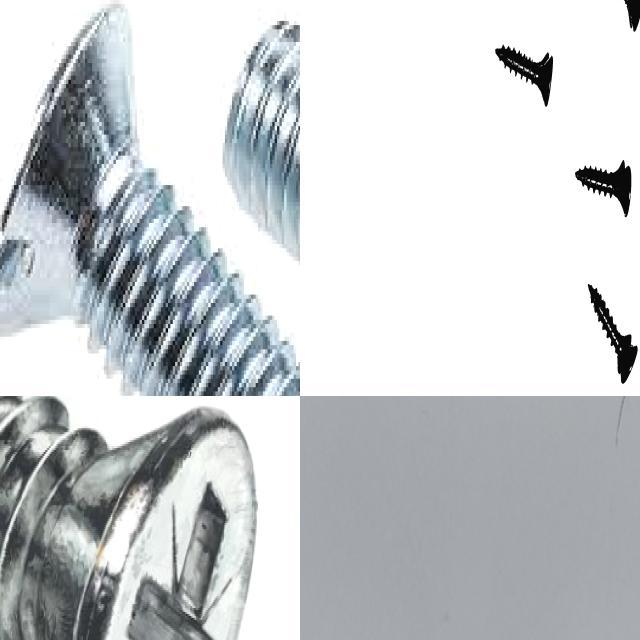Screw: (0, 0, 300, 396), (0, 396, 257, 640), (589, 283, 638, 383), (496, 43, 553, 104), (576, 159, 632, 215), (625, 0, 640, 29)
